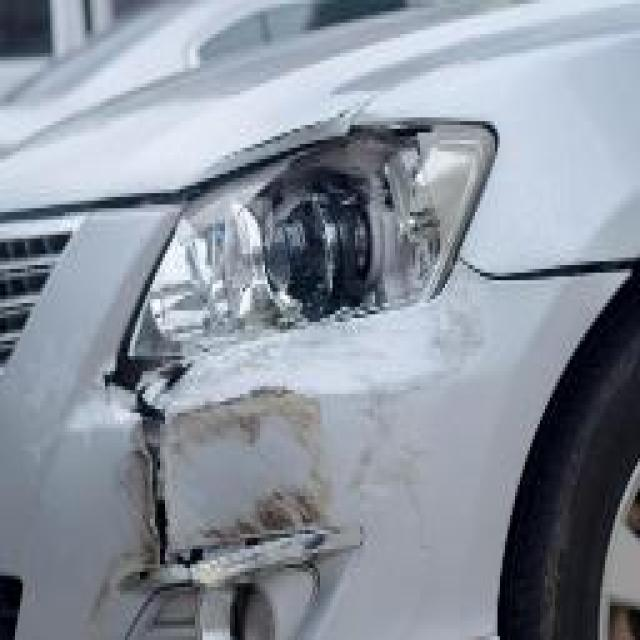Bonnet: (165, 80, 445, 159)
Bumper: (62, 314, 540, 640)
Light: (155, 144, 475, 329)
